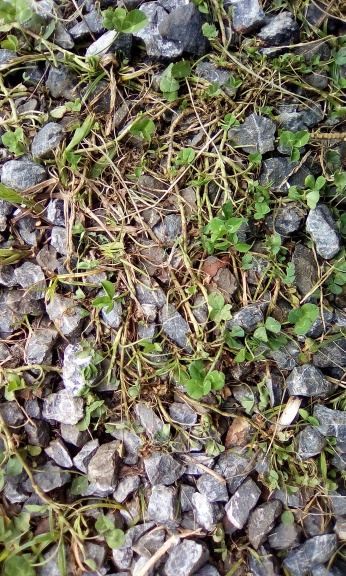4leaf: (184, 361, 225, 401)
